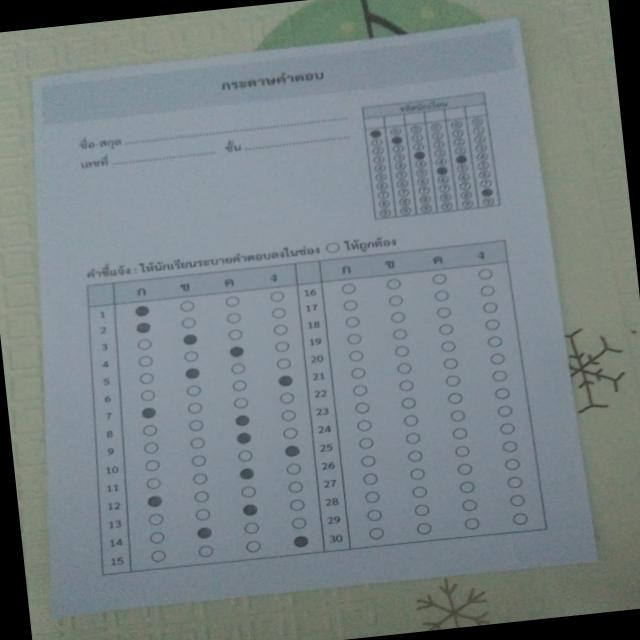Choice: (63, 229, 564, 588)
ID: (355, 82, 510, 230)
